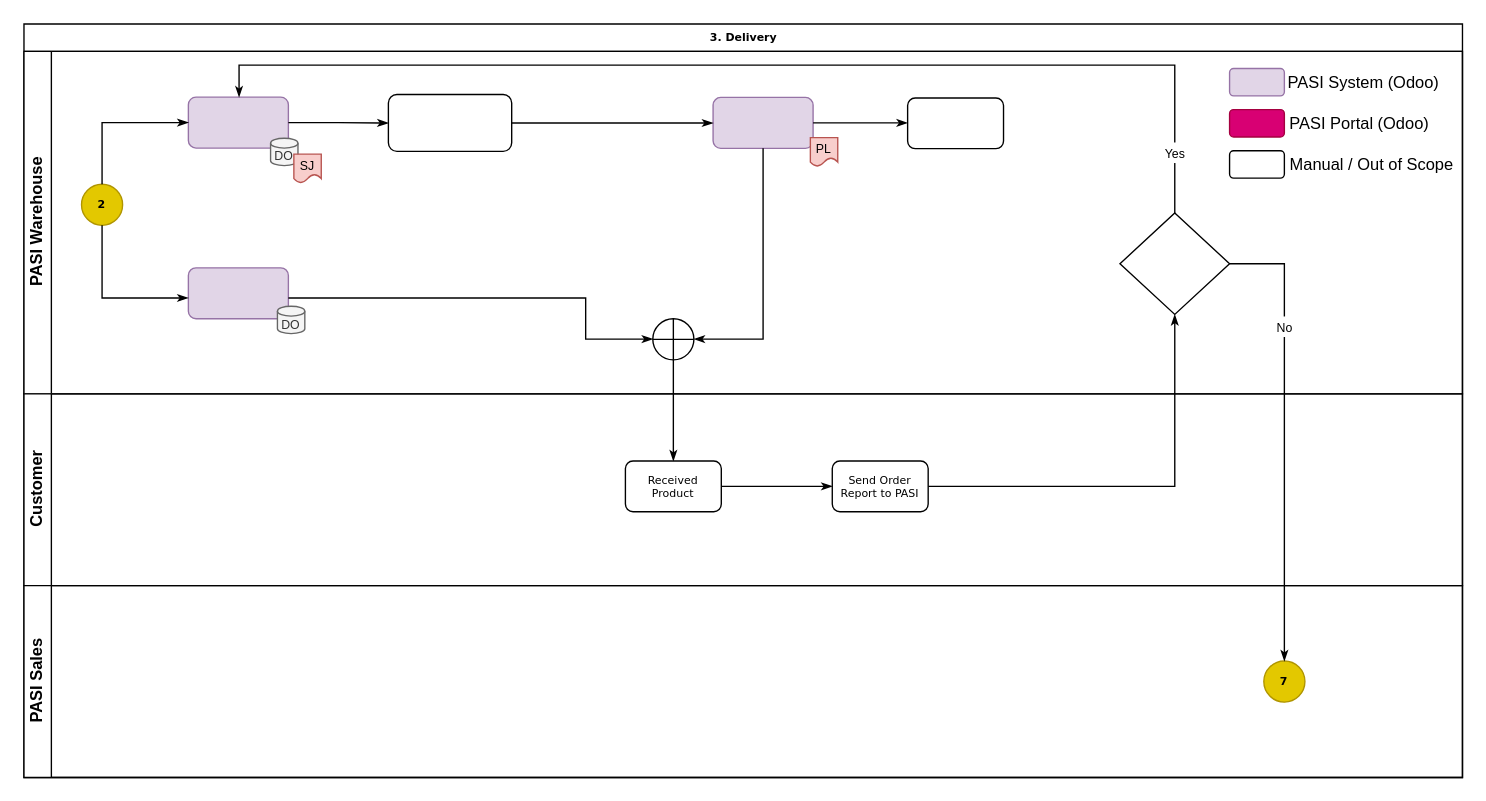
This 1486x801 diagram has some shape labels left out. The centre of each missing label's shape, as x and y in pixels:
Auto Create DO from Affiliate DO: [237,292]
Create Delivery to Customer: [237,122]
Create Packing List to Affiliate: [762,122]
Has Remaining Delivery?: [1174,263]
Send Delivery Confirmation to Customer: [449,122]
Send Global EDI: [955,123]
